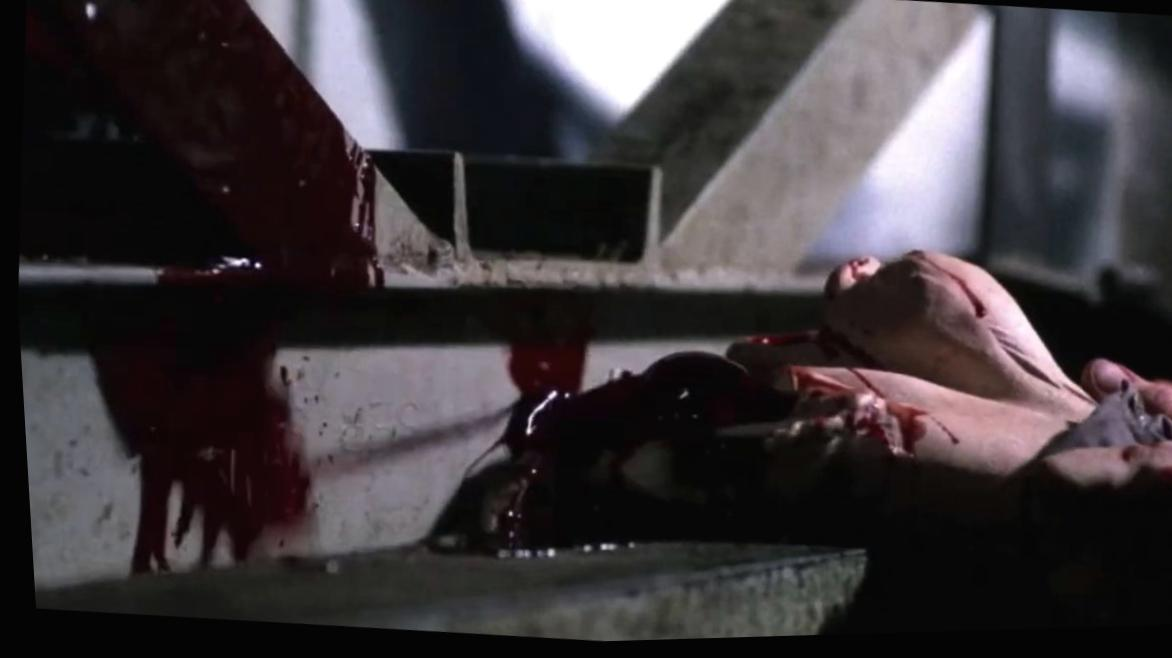Fire: (15, 0, 393, 573), (427, 289, 1048, 635)
